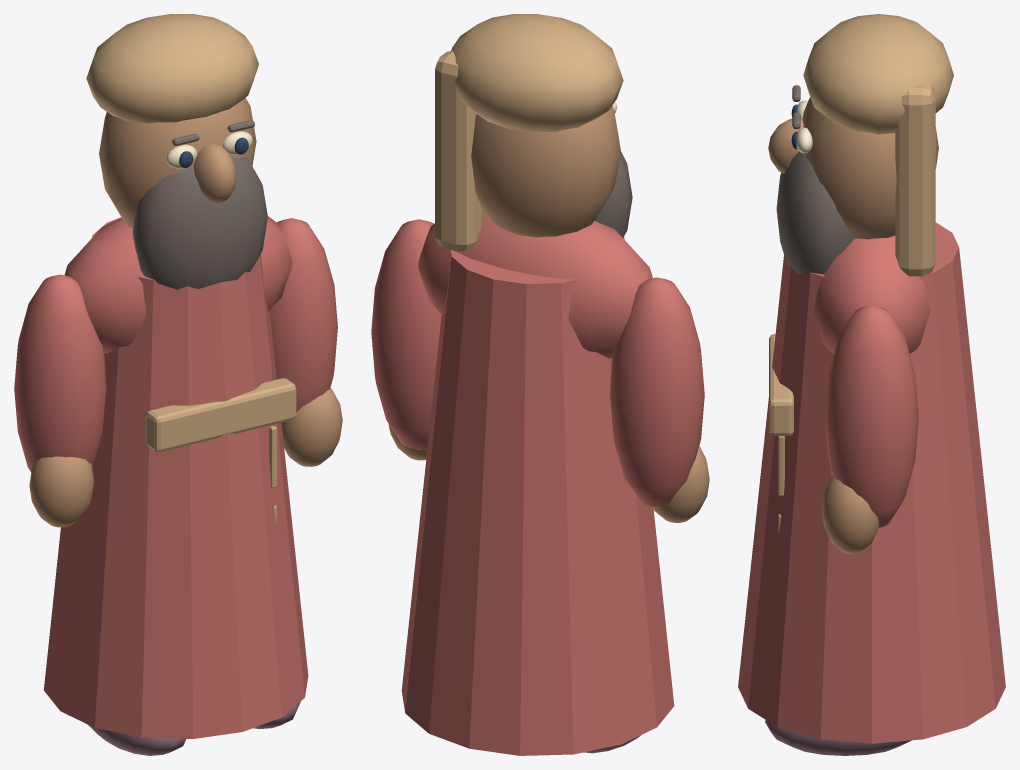
The model's file is lot.glb.
The picture shows the model from 3 angles, left to right: view 1: azimuth 30°, elevation 25°; view 2: azimuth 150°, elevation 25°; view 3: azimuth 270°, elevation 25°; orthographic projection. The views are drawn at different scales.
Visible parts, largest first — view 1: Robe.002, Head cloth.001, ArmL.002, Beard.001, ArmR.002, Shoulders.002, Head.002, Sash.002, Hand.004, Hand.005, Nose.002, FootL.002; view 2: Robe.002, ArmL.002, Head cloth.001, Head.002, Shoulders.002, ArmR.002, Cloth tail.001, Hand.004, Beard.001; view 3: Robe.002, ArmR.002, Head cloth.001, Head.002, Shoulders.002, Cloth tail.001, Beard.001, Hand.005, FootR.002, Sash.002, Nose.002.
Boxes of the visible parts, x1,y1,x2,y2 form: Robe.002: (43,217,308,738); Head cloth.001: (86,14,258,123); ArmL.002: (14,274,106,472); Beard.001: (132,157,267,289); ArmR.002: (269,218,337,424); Shoulders.002: (64,216,292,353); Head.002: (99,98,256,228); Sash.002: (146,378,296,452); Hand.004: (29,456,94,527); Hand.005: (282,388,342,466); Nose.002: (193,143,236,202); FootL.002: (87,724,186,755); Robe.002: (401,237,674,755); ArmL.002: (610,277,704,507); Head cloth.001: (451,14,623,131); Head.002: (471,106,620,237); Shoulders.002: (418,214,652,358); ArmR.002: (371,219,441,449); Cloth tail.001: (435,50,483,251); Hand.004: (652,446,709,522); Beard.001: (594,151,632,237); Robe.002: (738,222,1005,743); ArmR.002: (825,305,918,527); Head cloth.001: (803,14,953,134); Head.002: (802,97,938,239); Shoulders.002: (813,235,930,353); Cloth tail.001: (895,84,935,276); Beard.001: (776,151,854,274); Hand.005: (821,475,878,554); FootR.002: (765,720,911,755); Sash.002: (769,334,793,435); Nose.002: (768,118,803,173).
Size of the model in its own units: 1.08 by 2.3 by 0.8.
